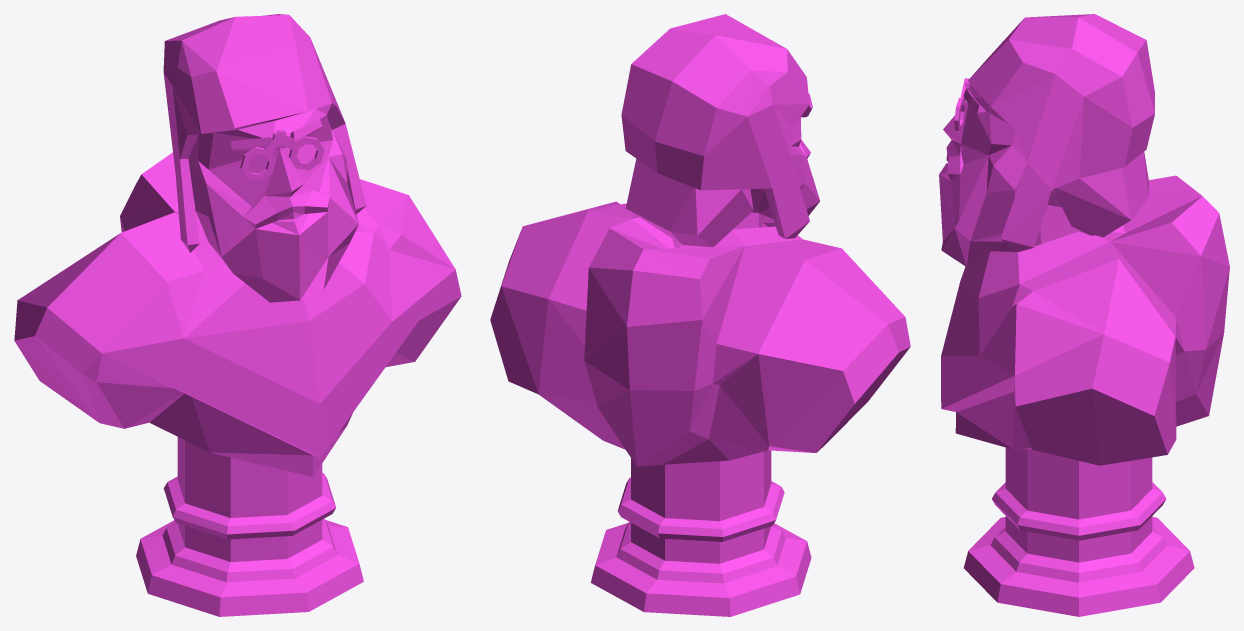
The model's file is SM_Statue_Bust_Alchemist_Fantasy.fbx.
3 views of the same model, side by side, from view 1: azimuth 30°, elevation 25°; view 2: azimuth 150°, elevation 25°; view 3: azimuth 270°, elevation 25° (orthographic). The views are drawn at different scales.
Parts seen in each view (by area): view 1: SM_Statue_Bust_Alchemist_Fantasy; view 2: SM_Statue_Bust_Alchemist_Fantasy; view 3: SM_Statue_Bust_Alchemist_Fantasy.
Boxes of the visible parts, left/top/right/bottom form: SM_Statue_Bust_Alchemist_Fantasy: left=14, top=14, right=461, bottom=616; SM_Statue_Bust_Alchemist_Fantasy: left=490, top=14, right=910, bottom=616; SM_Statue_Bust_Alchemist_Fantasy: left=939, top=14, right=1229, bottom=616.
Size of the model in its own units: 0.4469 by 0.5912 by 0.2866.
